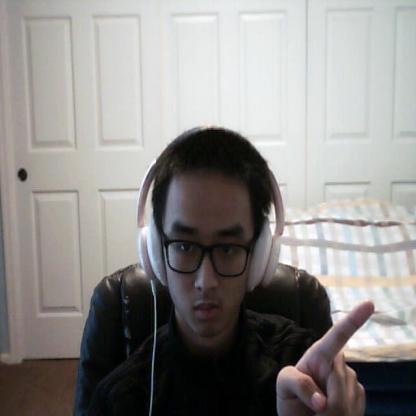finger_point: (319, 295, 379, 354)
